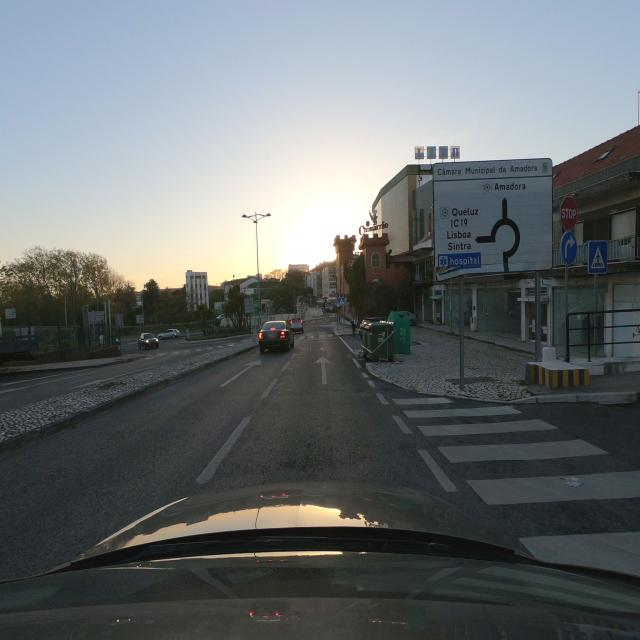car: (258, 320, 294, 354), (138, 333, 160, 350), (359, 316, 382, 330), (288, 315, 304, 333), (159, 329, 180, 339)
